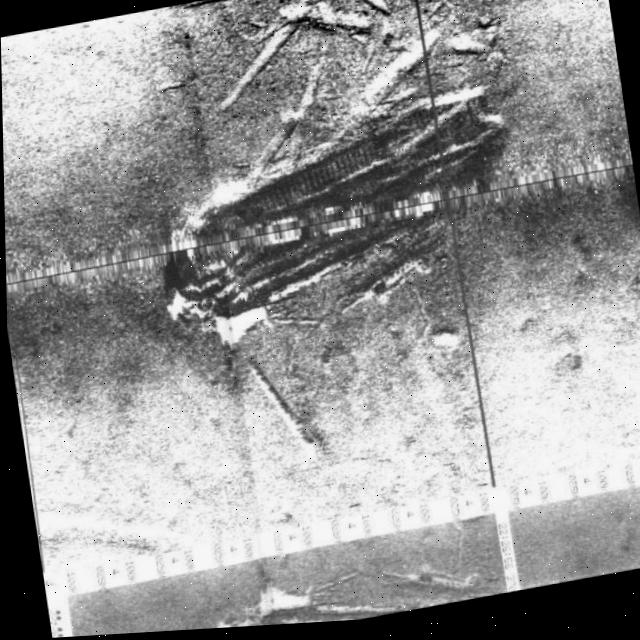shipwreck: (137, 83, 520, 360)
